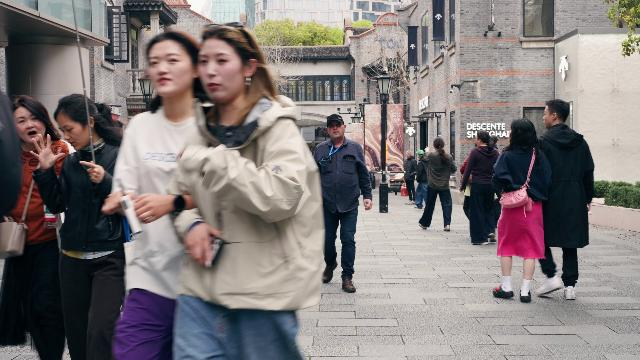person: (170, 21, 326, 360), (101, 27, 211, 360), (29, 93, 126, 360), (0, 94, 76, 360), (536, 99, 594, 300), (491, 118, 553, 303), (313, 114, 373, 293), (459, 130, 501, 246), (418, 138, 458, 231), (489, 135, 502, 228), (415, 150, 429, 210), (404, 150, 418, 205), (459, 160, 470, 219)
